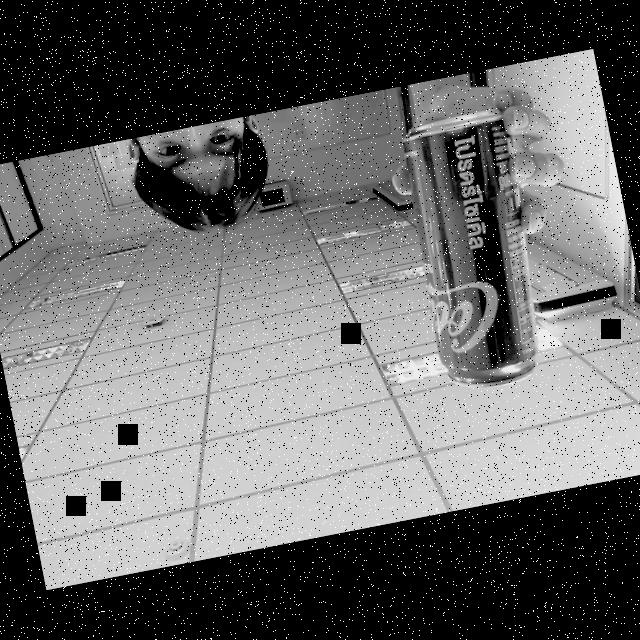can: (391, 102, 564, 402)
